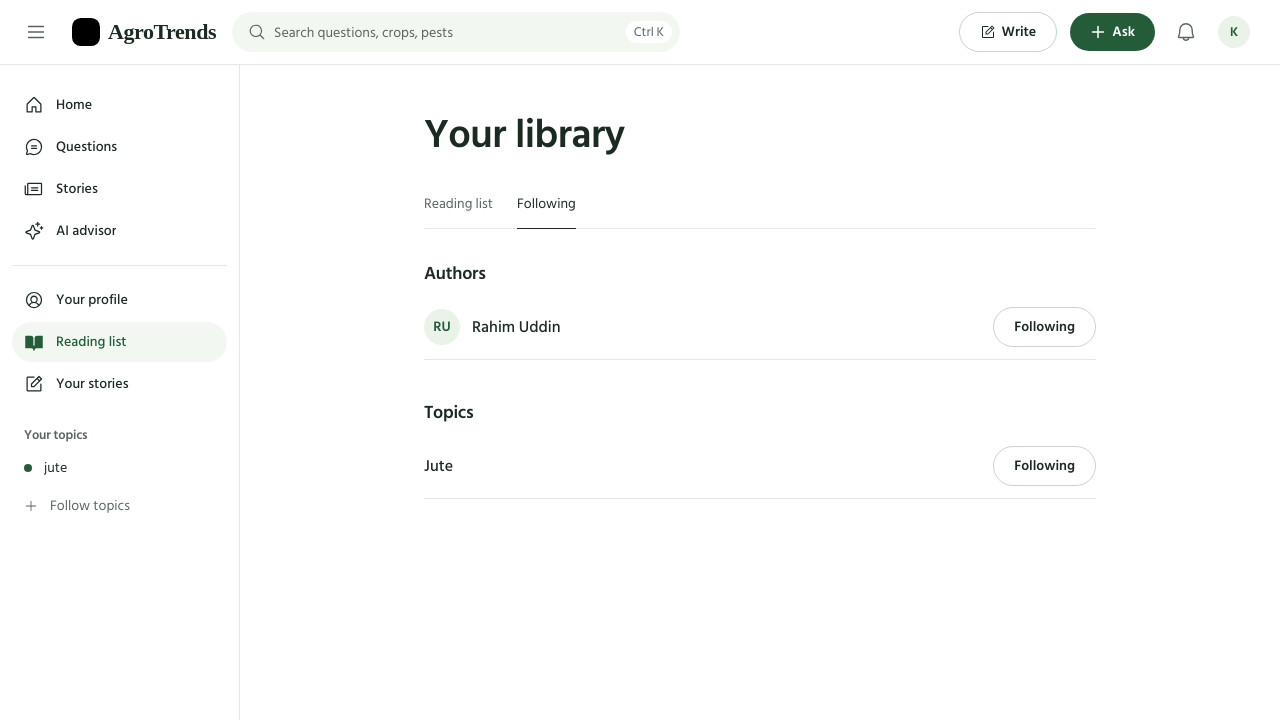
Scenario: following lists authors and topics, and unfollowing can be undone
Click the button with aria-label "Following Rahim Uddin" at (1045, 327), box [993,307,1096,347]
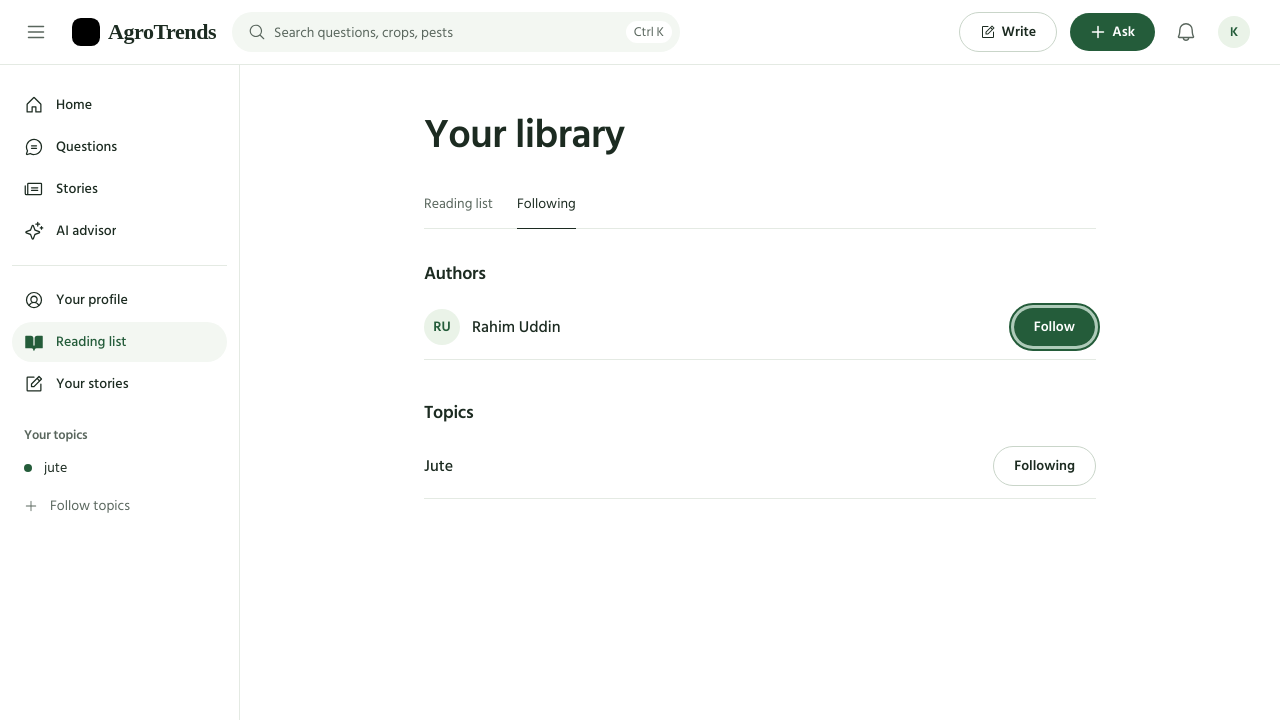
Check: the button with aria-label "Follow Rahim Uddin" is not pressed
Click the button with aria-label "Follow Rahim Uddin" at (1054, 327), box [1013,307,1096,347]
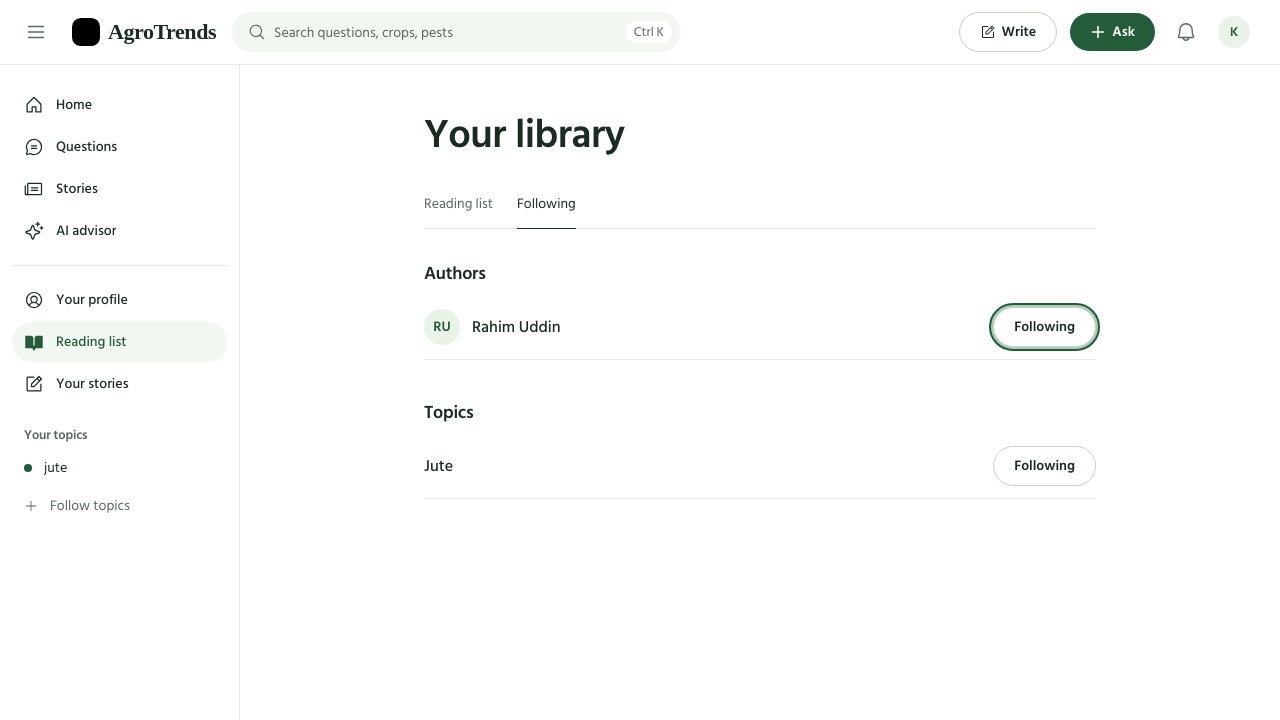
Check: the button with aria-label "Following Rahim Uddin" is shown, box [993,307,1096,347]
